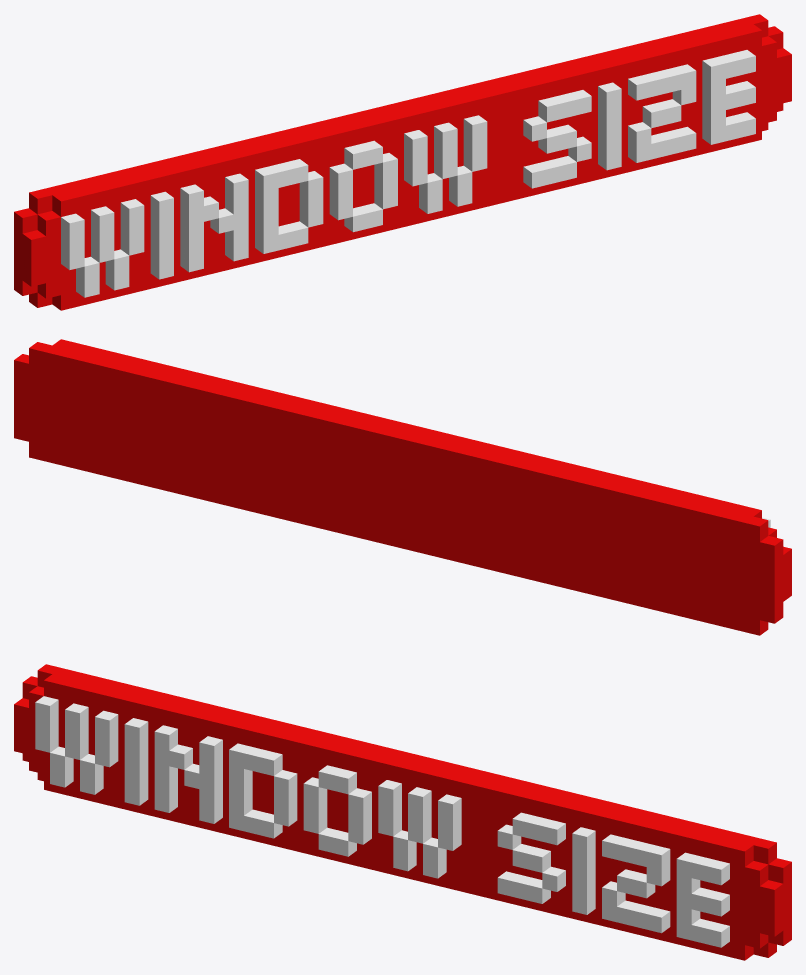
The model's file is window_size.obj.
The picture shows the model from 3 angles, top to bottom: view 1: azimuth 30°, elevation 25°; view 2: azimuth 150°, elevation 25°; view 3: azimuth 330°, elevation 25°; orthographic projection.
Parts seen in each view (by area): view 1: window_size; view 2: window_size; view 3: window_size.
Part boxes in pixels (box(x1,y1,x2,y2)): window_size: box(14, 14, 791, 310); window_size: box(14, 339, 791, 635); window_size: box(14, 664, 791, 960).
Bounding box in the file's own units: 51 × 7 × 3.
1 material, 1 textured.
